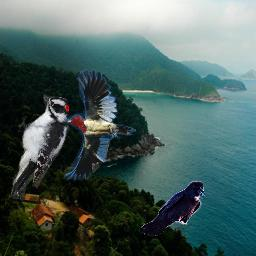Crow: (141, 181, 205, 236)
Woodpecker: (64, 69, 136, 181), (10, 94, 69, 199)
